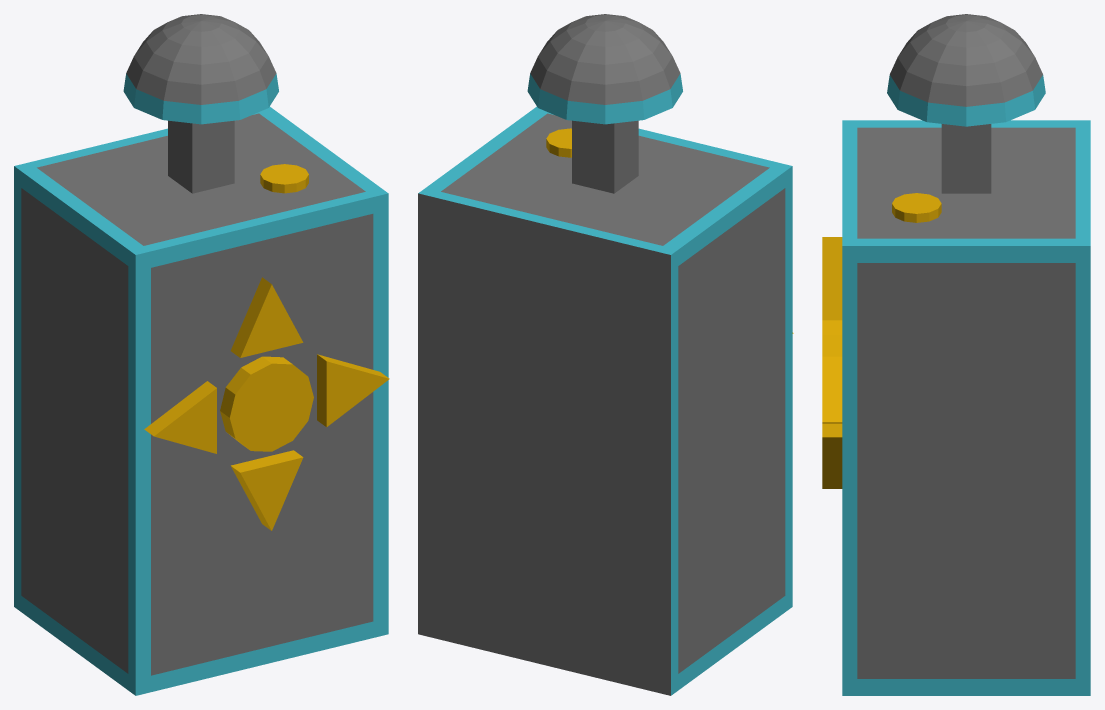
The model's file is grav controller.fbx.
3 renders of one model, left to right at view 1: azimuth 30°, elevation 25°; view 2: azimuth 150°, elevation 25°; view 3: azimuth 270°, elevation 25°, orthographic. The views are drawn at different scales.
Parts seen in each view (by area): view 1: Cube, Sphere, Cylinder.001, Cube.001, Arrow, Arrow.001, Arrow.003, Arrow.002, Cylinder.002; view 2: Cube, Sphere, Cube.001, Cylinder.002; view 3: Cube, Sphere, Cube.001, Arrow.001, Arrow.003, Arrow, Cylinder.002, Cylinder.001.
Boxes of the visible parts, left/top/right/bottom form: Cube: left=14, top=106, right=388, bottom=695; Sphere: left=123, top=14, right=278, bottom=124; Cylinder.001: left=220, top=356, right=313, bottom=451; Cube.001: left=168, top=120, right=234, bottom=193; Arrow: left=231, top=450, right=303, bottom=530; Arrow.001: left=230, top=277, right=303, bottom=357; Arrow.003: left=317, top=354, right=389, bottom=427; Arrow.002: left=144, top=381, right=216, bottom=453; Cylinder.002: left=260, top=164, right=308, bottom=193; Cube: left=418, top=106, right=792, bottom=695; Sphere: left=527, top=14, right=682, bottom=124; Cube.001: left=572, top=120, right=638, bottom=193; Cylinder.002: left=546, top=128, right=571, bottom=157; Cube: left=842, top=120, right=1090, bottom=695; Sphere: left=887, top=14, right=1045, bottom=126; Cube.001: left=941, top=124, right=991, bottom=193; Arrow.001: left=822, top=237, right=842, bottom=320; Arrow.003: left=822, top=356, right=842, bottom=423; Arrow: left=822, top=424, right=842, bottom=488; Cylinder.002: left=892, top=193, right=941, bottom=222; Cylinder.001: left=822, top=320, right=842, bottom=356.
Size of the model in its own units: 300 by 680 by 270.
